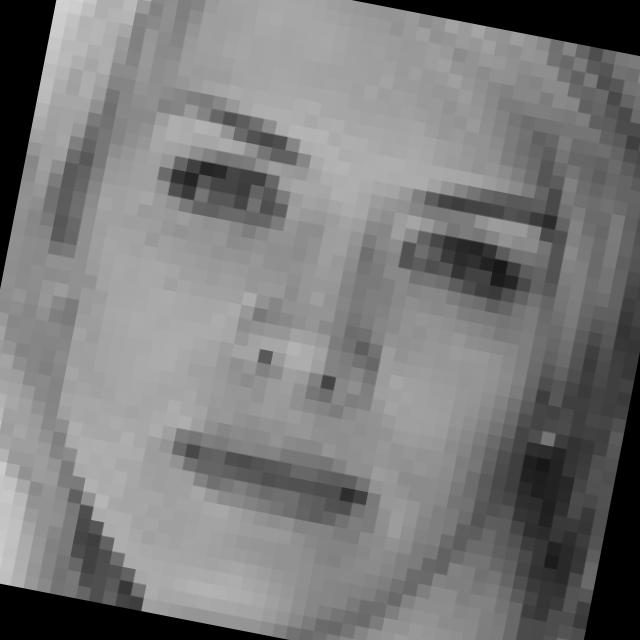neutral: (69, 81, 572, 578)
